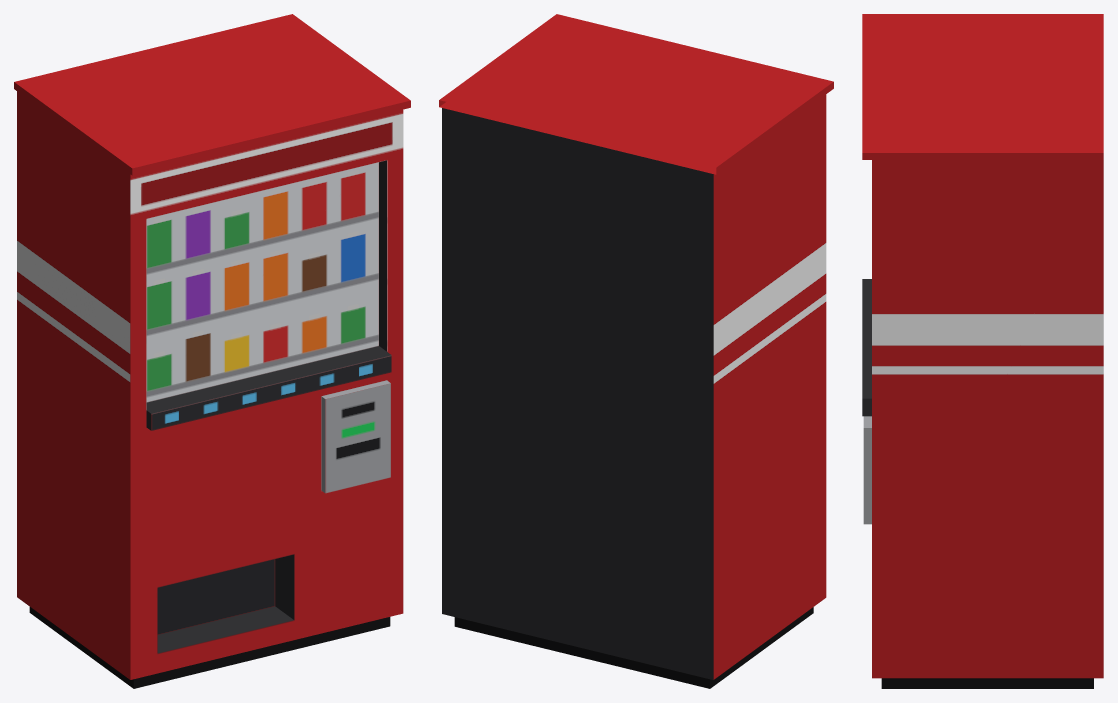
File: vending.obj
3 views of the same model, side by side, from view 1: azimuth 30°, elevation 25°; view 2: azimuth 150°, elevation 25°; view 3: azimuth 270°, elevation 25° (orthographic). The views are drawn at different scales.
Visible parts, largest first — view 1: vending; view 2: vending; view 3: vending.
Boxes of the visible parts, box(x1,y1,x2,y2) form: vending: box(14, 14, 410, 688); vending: box(439, 14, 833, 688); vending: box(862, 14, 1103, 688).
Bounding box in the file's own units: 1.02 × 1.86 × 0.75.
